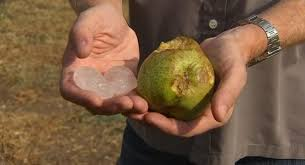damaged_apple: (141, 40, 218, 116)
